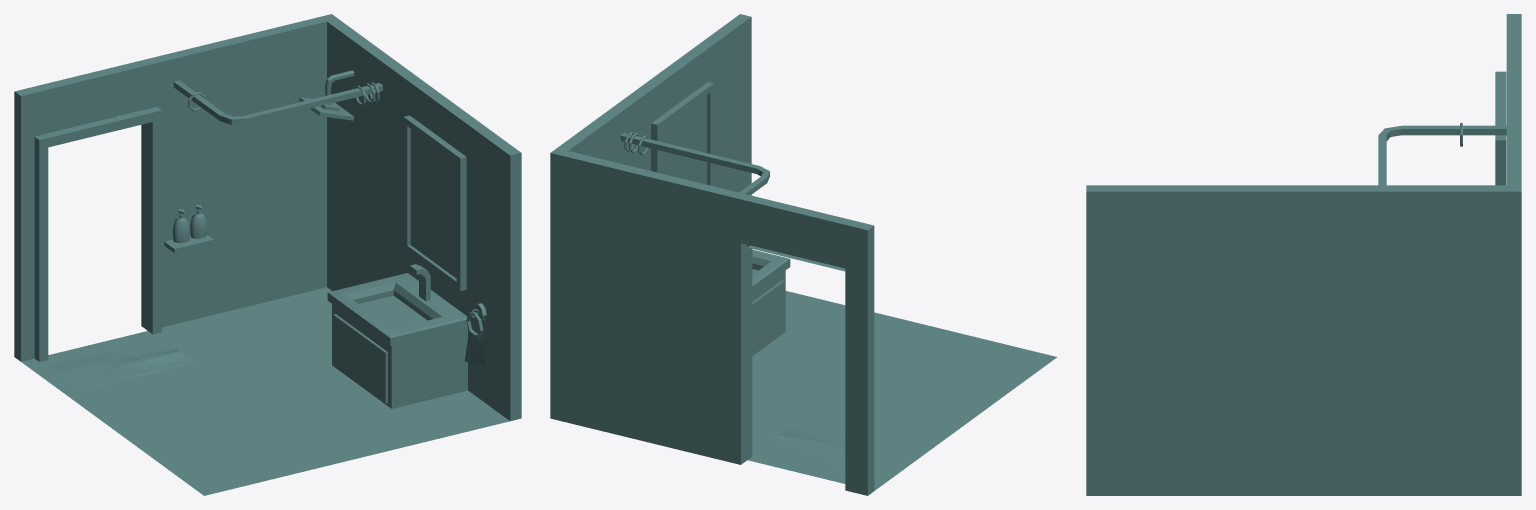
The model's file is Bathroom_Walls.fbx.
3 renders of one model, left to right at view 1: azimuth 30°, elevation 25°; view 2: azimuth 150°, elevation 25°; view 3: azimuth 270°, elevation 25°, orthographic. The views are drawn at different scales.
Parts seen in each view (by area): view 1: pTorus2; view 2: pTorus2; view 3: pTorus2.
Part boxes in pixels (box(x1,y1,x2,y2)): pTorus2: box(14, 14, 521, 495); pTorus2: box(550, 14, 1056, 495); pTorus2: box(1086, 14, 1521, 495).
Size of the model in its own units: 28 by 22.4 by 29.
